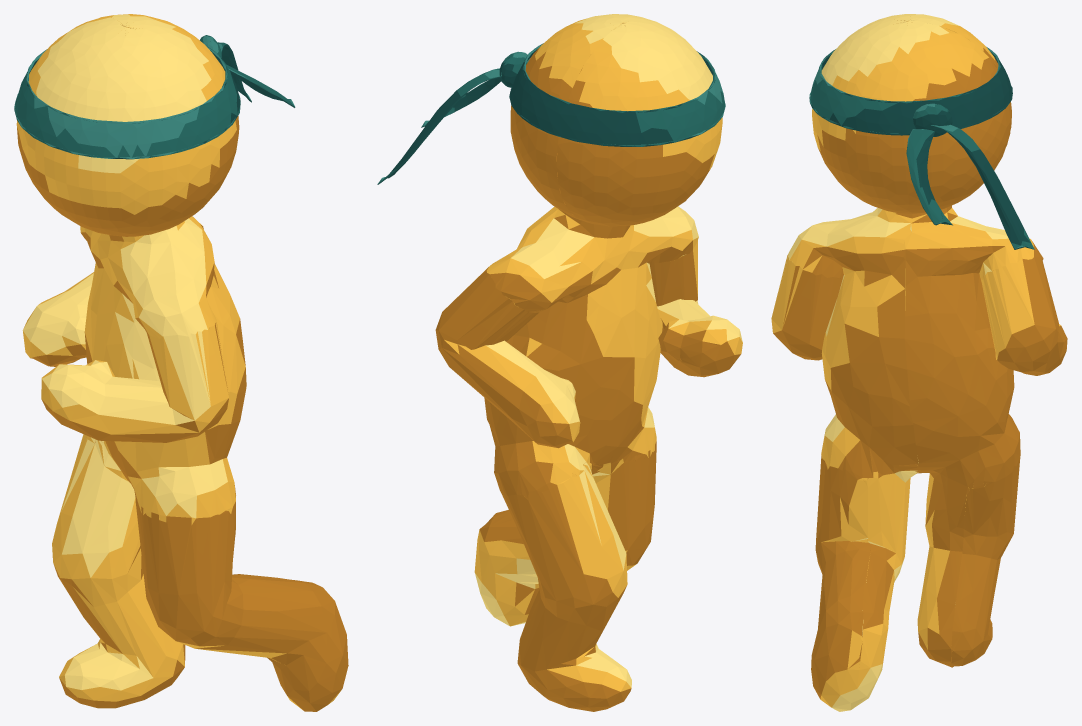
Rendered from Ninja_Jog5_L.gltf.
3 views of the same model, side by side, from view 1: azimuth 30°, elevation 25°; view 2: azimuth 150°, elevation 25°; view 3: azimuth 270°, elevation 25° (orthographic). The views are drawn at different scales.
Parts seen in each view (by area): view 1: Ninja_Jog5_L_baked; view 2: Ninja_Jog5_L_baked; view 3: Ninja_Jog5_L_baked.
Part boxes in pixels (x1,y1,x2,y2): Ninja_Jog5_L_baked: (14, 14, 348, 711); Ninja_Jog5_L_baked: (377, 14, 742, 711); Ninja_Jog5_L_baked: (771, 14, 1067, 711).
Size of the model in its own units: 0.4306 by 1 by 0.4269.
